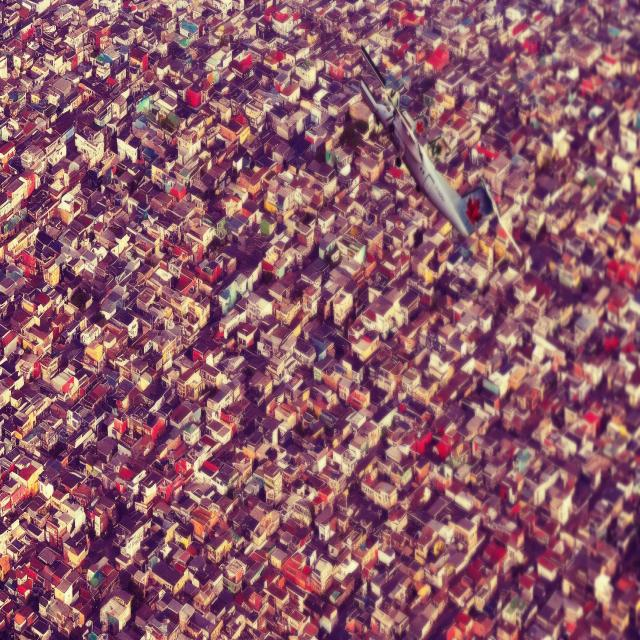airplane: (360, 46, 523, 259)
